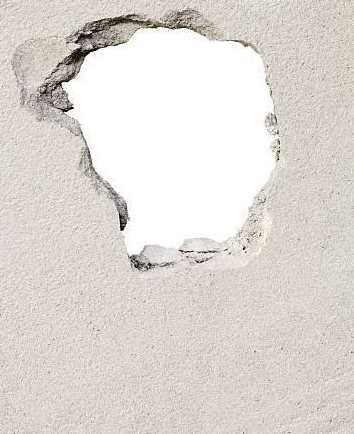Spalling: (35, 7, 281, 270)
